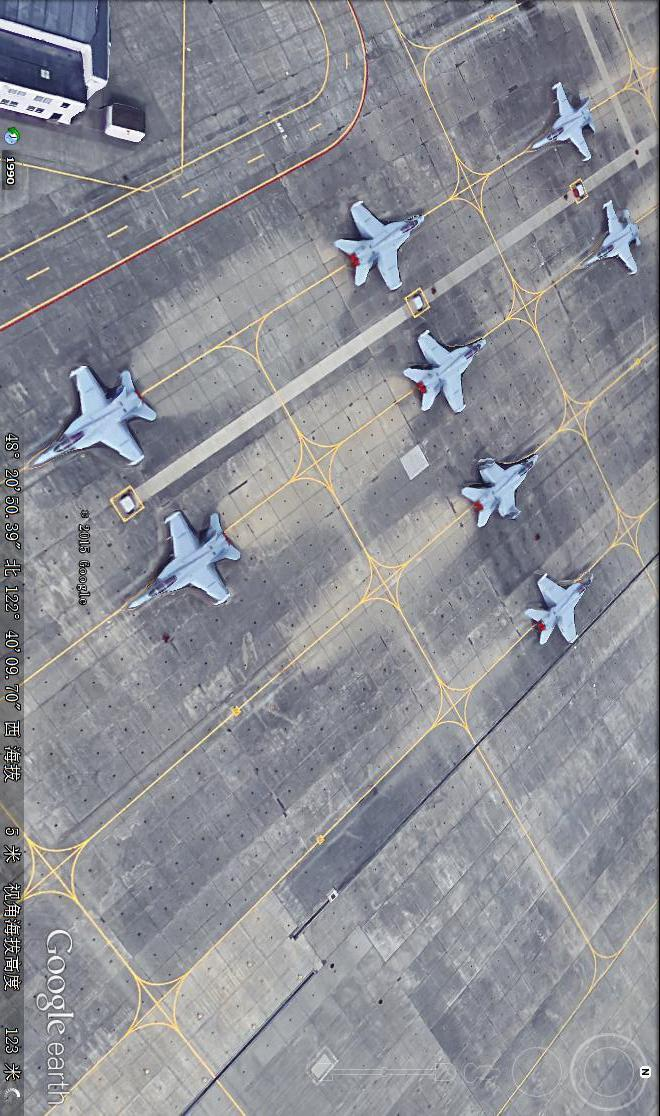F/A-18: (26, 362, 160, 475), (126, 506, 241, 616), (335, 194, 433, 294), (402, 322, 494, 422), (460, 445, 541, 530), (523, 565, 603, 649), (531, 82, 598, 167), (581, 197, 646, 278)
